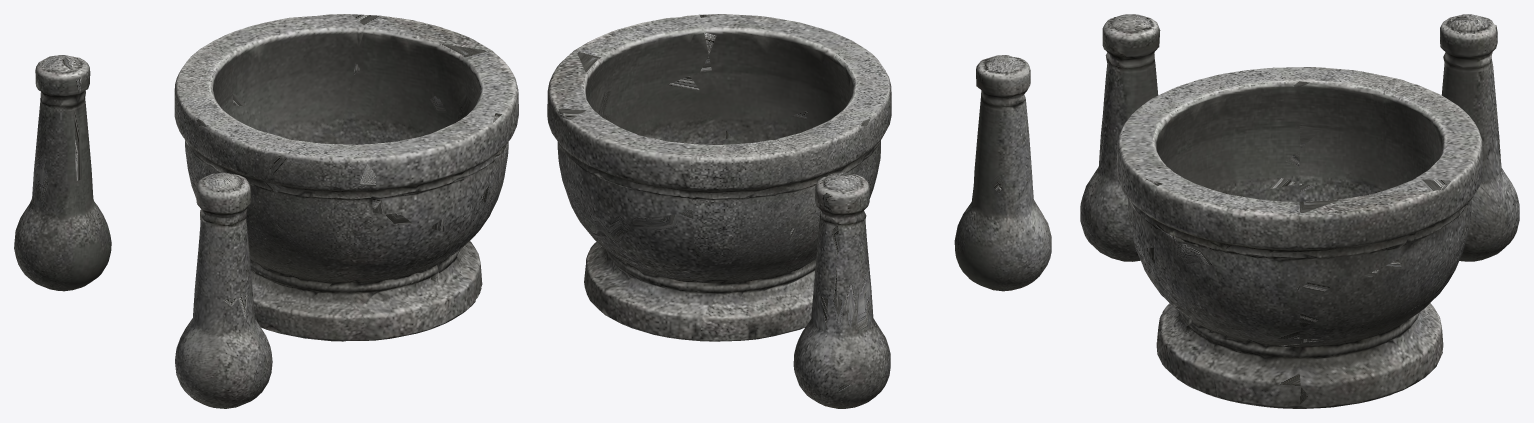
File: mortar-mobile.glb
The picture shows the model from 3 angles, left to right: view 1: azimuth 30°, elevation 25°; view 2: azimuth 150°, elevation 25°; view 3: azimuth 270°, elevation 25°; orthographic projection. The views are drawn at different scales.
Parts seen in each view (by area): view 1: tripo_node_271d1d59-3655-4fa3-8d5c-0f08266bdc7e; view 2: tripo_node_271d1d59-3655-4fa3-8d5c-0f08266bdc7e; view 3: tripo_node_271d1d59-3655-4fa3-8d5c-0f08266bdc7e.
Boxes of the visible parts, left/top/right/bottom form: tripo_node_271d1d59-3655-4fa3-8d5c-0f08266bdc7e: left=14, top=14, right=518, bottom=408; tripo_node_271d1d59-3655-4fa3-8d5c-0f08266bdc7e: left=547, top=14, right=1051, bottom=408; tripo_node_271d1d59-3655-4fa3-8d5c-0f08266bdc7e: left=1080, top=14, right=1519, bottom=408.
Size of the model in its own units: 0.9714 by 0.5305 by 0.8953.
1 material, 1 textured.
